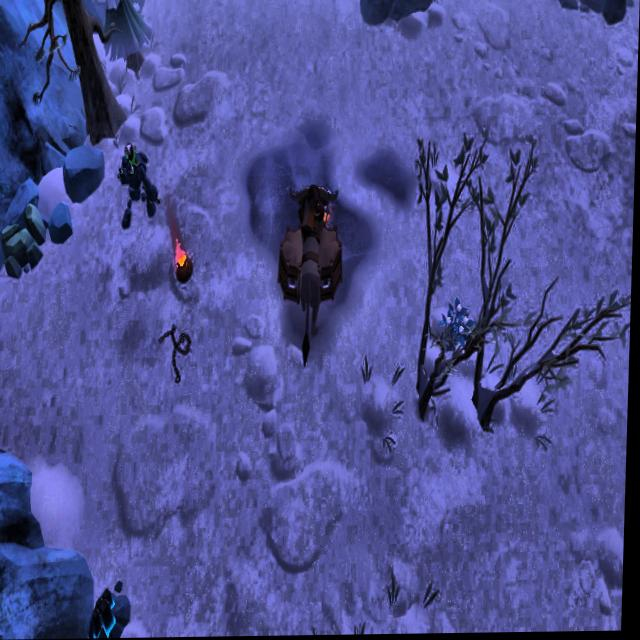fiber_t4: (441, 299, 480, 354)
ore_t4: (96, 583, 122, 637)
rock_t3: (0, 199, 51, 283)
